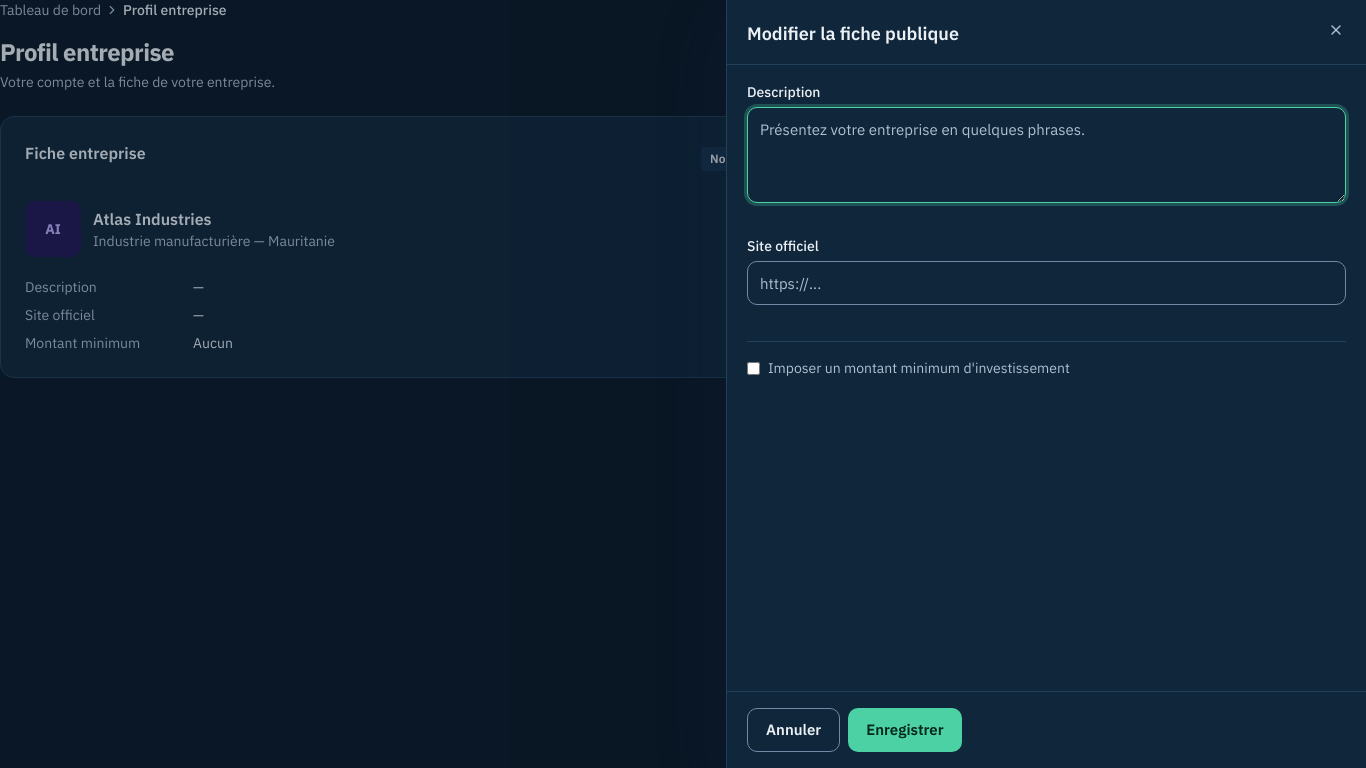
Test: Espace Entreprise — profil › le montant minimum n’apparaît qu’une fois l’option cochée
Click the checkbox labelled "Imposer un montant minimum d'investissement". click: [754, 368]
box: [747,362,760,374]
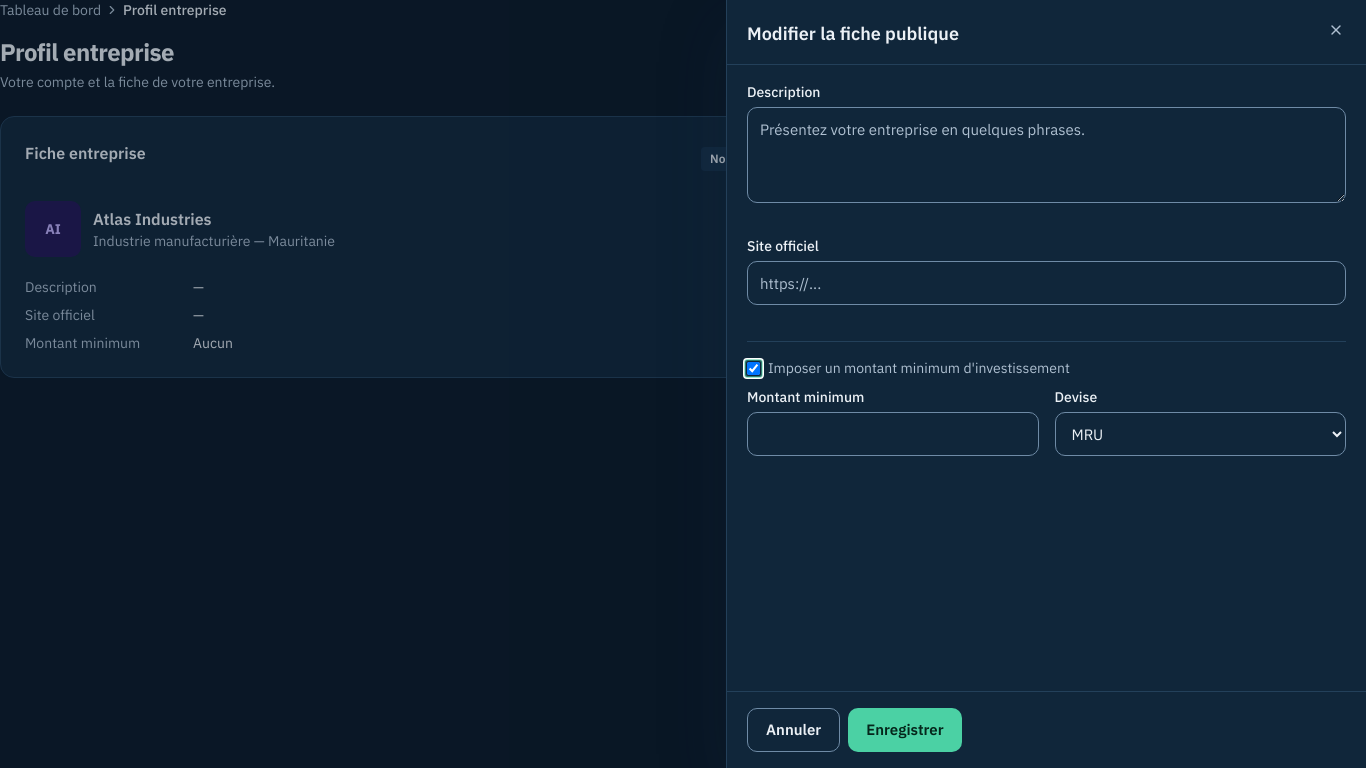
Expected: the number field labelled "Montant minimum" is shown, [747,412,1038,456]
